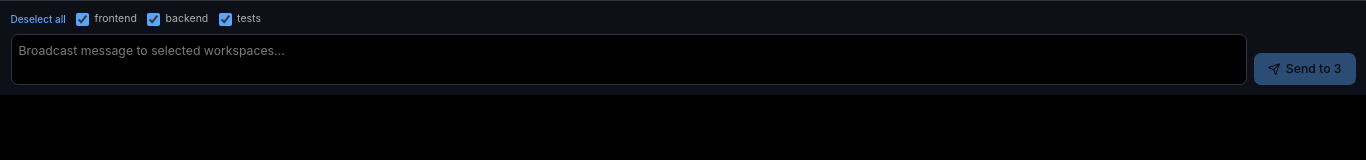
Test case: BroadcastComposer › toggling a checkbox updates selection count
Click the checkbox labelled "frontend": [83, 19] box [76, 12, 89, 26]
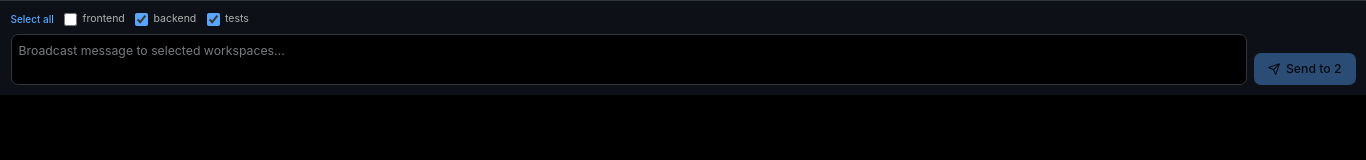
Expected: the button "Send to 2" is shown, [1254, 53, 1356, 84]
